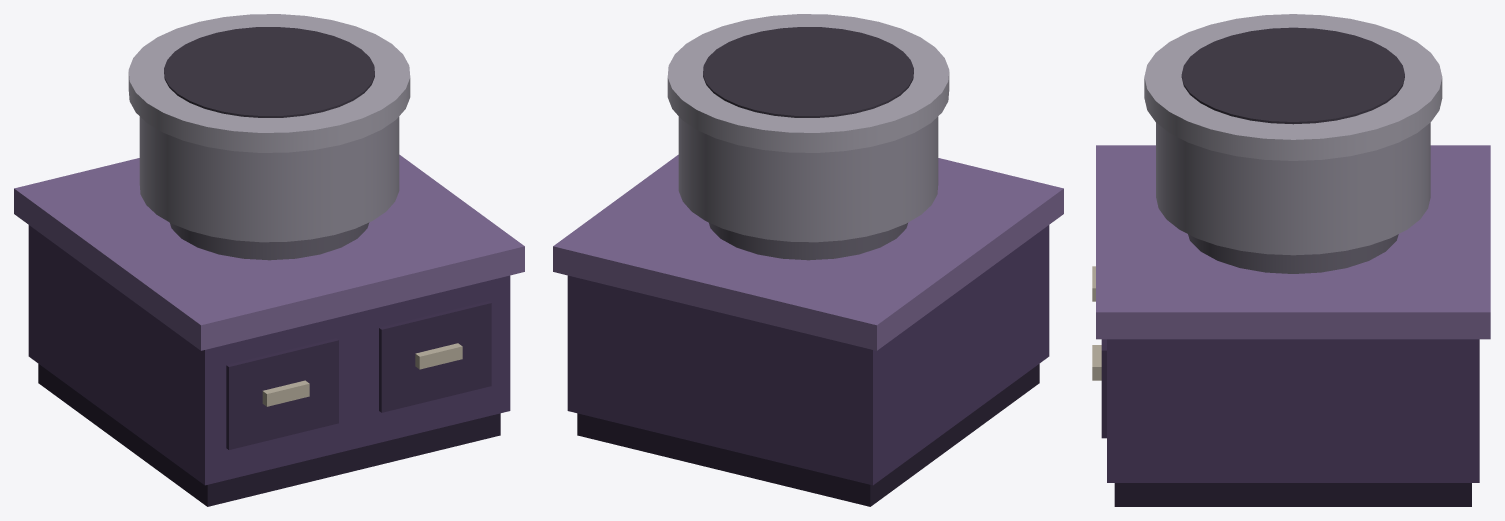
Rendered from k_mire_mortar.glb.
3 views of the same model, side by side, from view 1: azimuth 30°, elevation 25°; view 2: azimuth 150°, elevation 25°; view 3: azimuth 270°, elevation 25° (orthographic). The views are drawn at different scales.
Visible parts, largest first — view 1: piece; view 2: piece; view 3: piece.
Part boxes in pixels (x1,y1,x2,y2): piece: [14, 14, 524, 506]; piece: [553, 14, 1063, 506]; piece: [1092, 14, 1490, 506].
Bounding box in the file's own units: 1.06 × 1.06 × 1.07.
